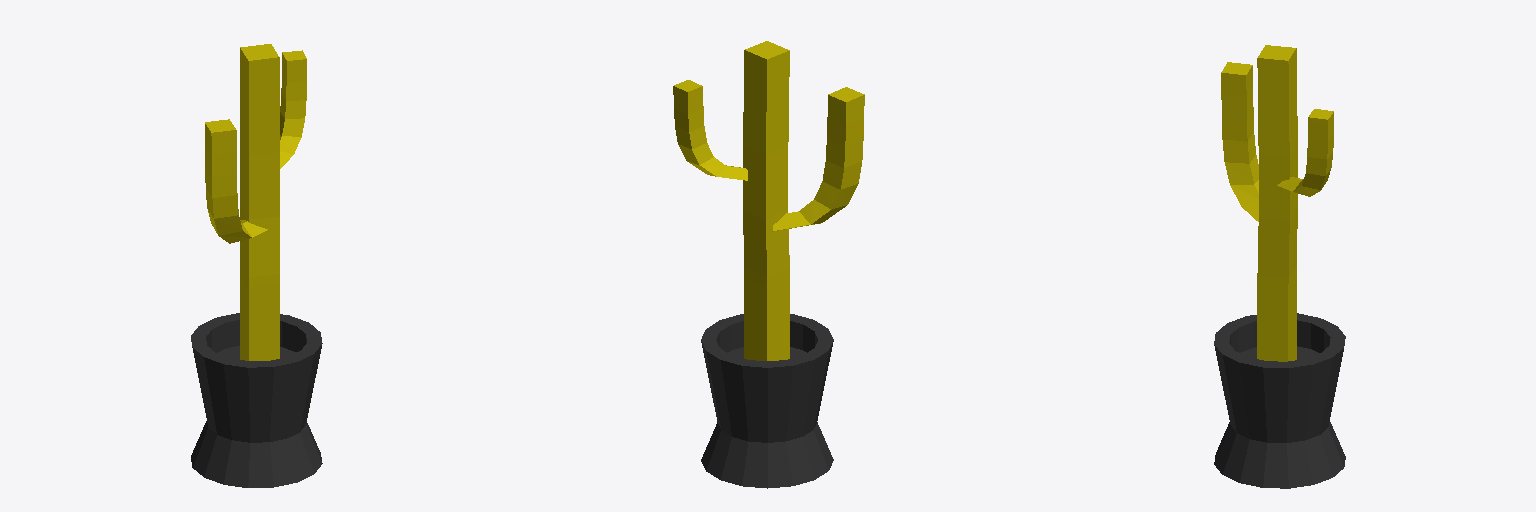
File: cactus_grande_01_000018.obj
3 renders of one model, left to right at view 1: azimuth 30°, elevation 25°; view 2: azimuth 150°, elevation 25°; view 3: azimuth 270°, elevation 25°, orthographic.
Parts seen in each view (by area): view 1: Cylinder, NurbsPath.001, NurbsPath.002, NurbsPath.003; view 2: Cylinder, NurbsPath.001, NurbsPath.002, NurbsPath.003; view 3: Cylinder, NurbsPath.001, NurbsPath.002, NurbsPath.003.
Boxes of the visible parts, <box> form: Cylinder: <box>191,313,322,487</box>; NurbsPath.001: <box>240,44,279,360</box>; NurbsPath.002: <box>205,119,267,243</box>; NurbsPath.003: <box>280,50,306,168</box>; Cylinder: <box>701,314,833,488</box>; NurbsPath.001: <box>743,41,789,360</box>; NurbsPath.002: <box>772,87,864,231</box>; NurbsPath.003: <box>673,80,747,180</box>; Cylinder: <box>1214,313,1345,488</box>; NurbsPath.001: <box>1257,45,1297,361</box>; NurbsPath.002: <box>1221,62,1258,221</box>; NurbsPath.003: <box>1277,109,1333,196</box>.
Size of the model in its own units: 1.59 by 4.41 by 1.29.